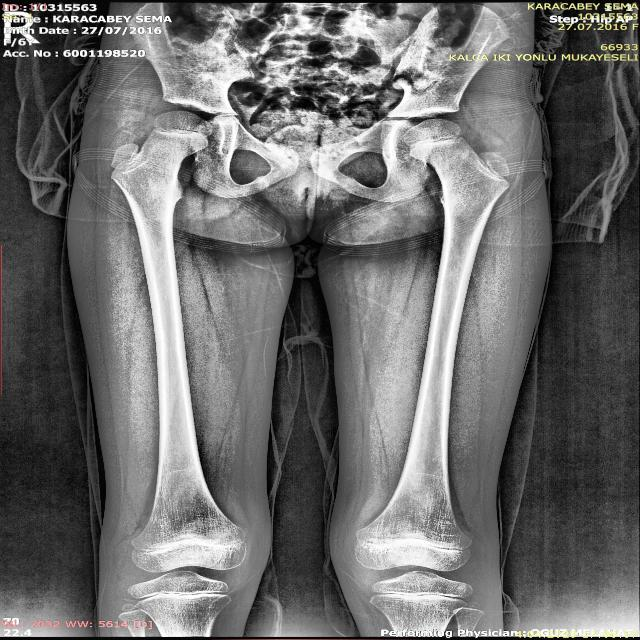Not_Fracture: (72, 2, 559, 640)
